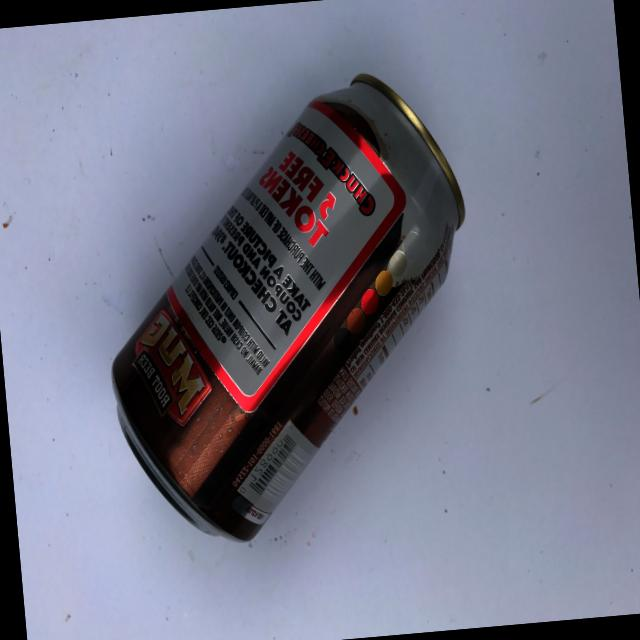Metal: (65, 51, 517, 578)
